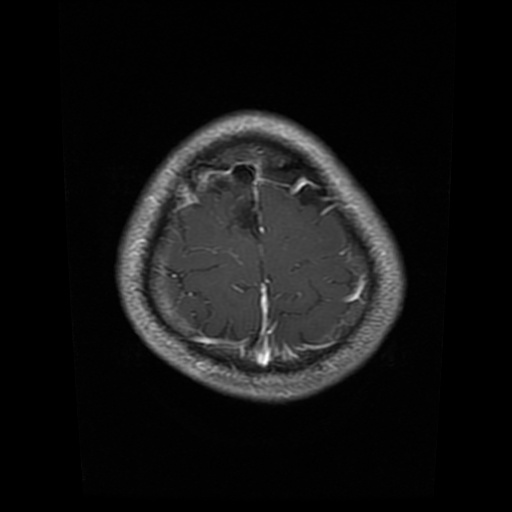glioma: (229, 194, 264, 237)
